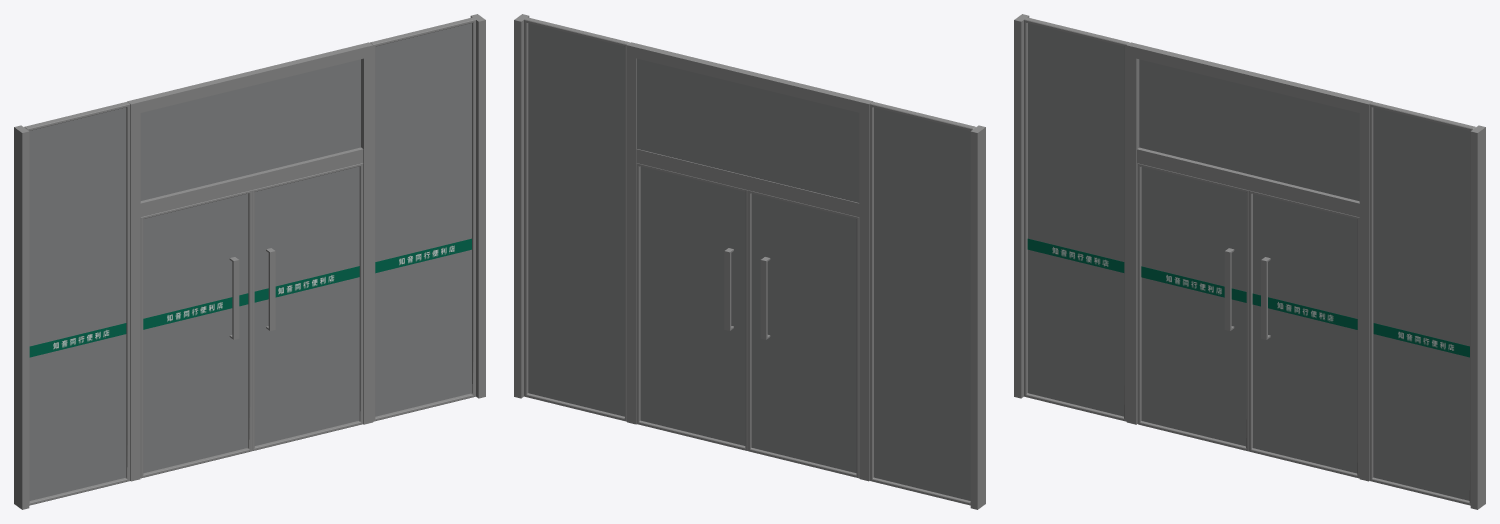
File: door2.glb
3 renders of one model, left to right at view 1: azimuth 30°, elevation 25°; view 2: azimuth 150°, elevation 25°; view 3: azimuth 330°, elevation 25°, orthographic.
Visible parts, largest first — view 1: 门; view 2: 门; view 3: 门.
Part boxes in pixels (box(x1,y1,x2,y2)): 门: box(14, 14, 485, 509); 门: box(514, 14, 985, 509); 门: box(1014, 14, 1485, 509).
Bounding box in the file's own units: 3.52 × 2.74 × 0.1185.
4 materials, 2 textured.
